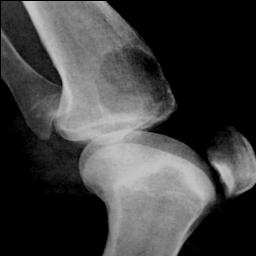cancer: (95, 49, 173, 118)
